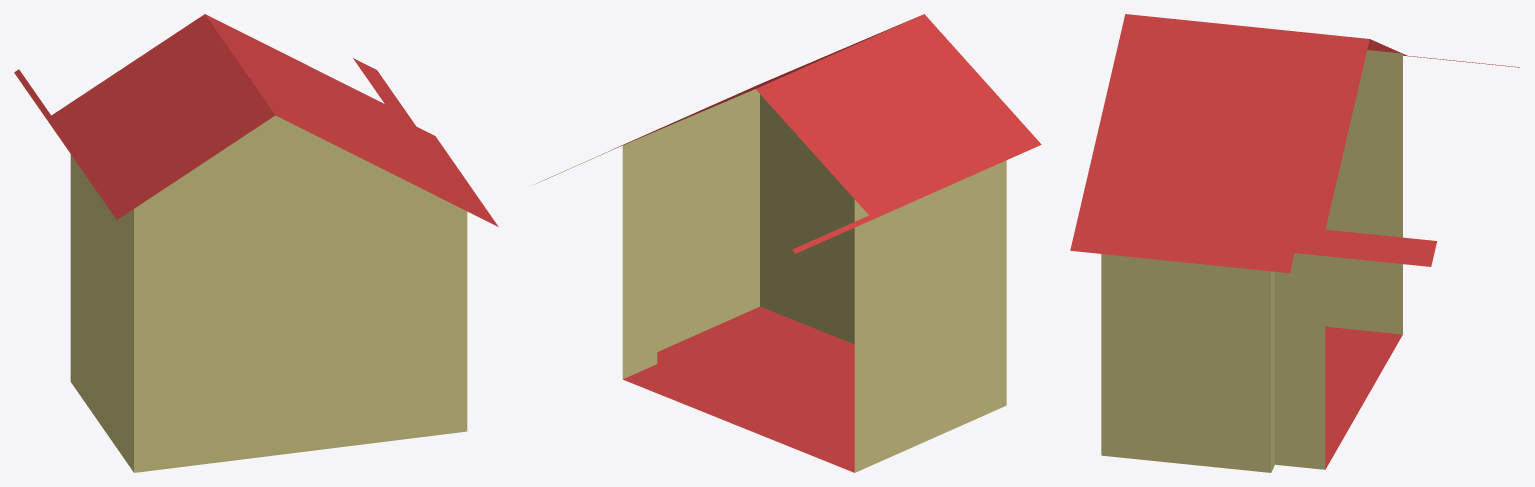
3 renders of one model, left to right at view 1: azimuth 30°, elevation 25°; view 2: azimuth 150°, elevation 25°; view 3: azimuth 270°, elevation 25°, orthographic. The views are drawn at different scales.
Size of the model in its own units: 13.34 by 13.18 by 11.4.
